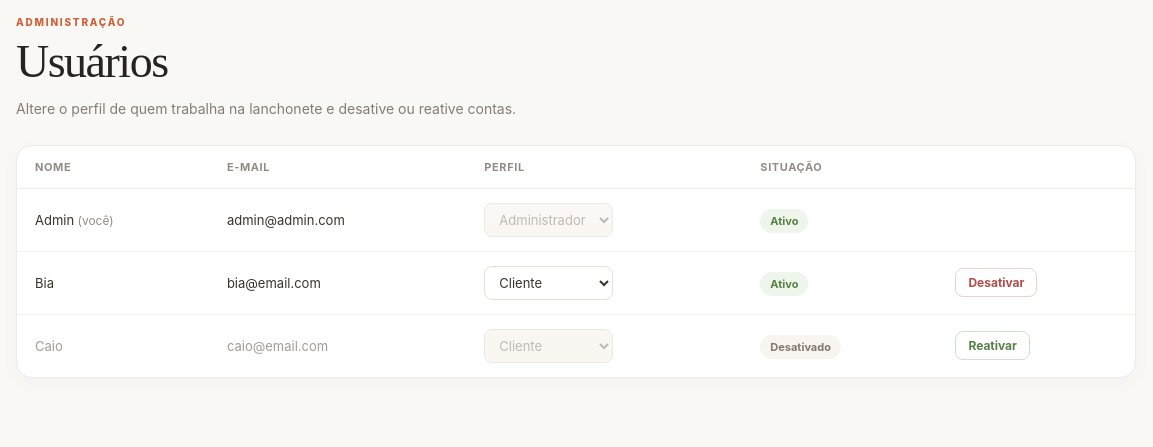
Test: AdminUsuarios › promover a funcionário pede confirmação, envia a nova role e atualiza a linha
Select "Funcionário" in the dropdown named "Perfil de Bia": (549, 283) x1=484 y1=266 x2=613 y2=300
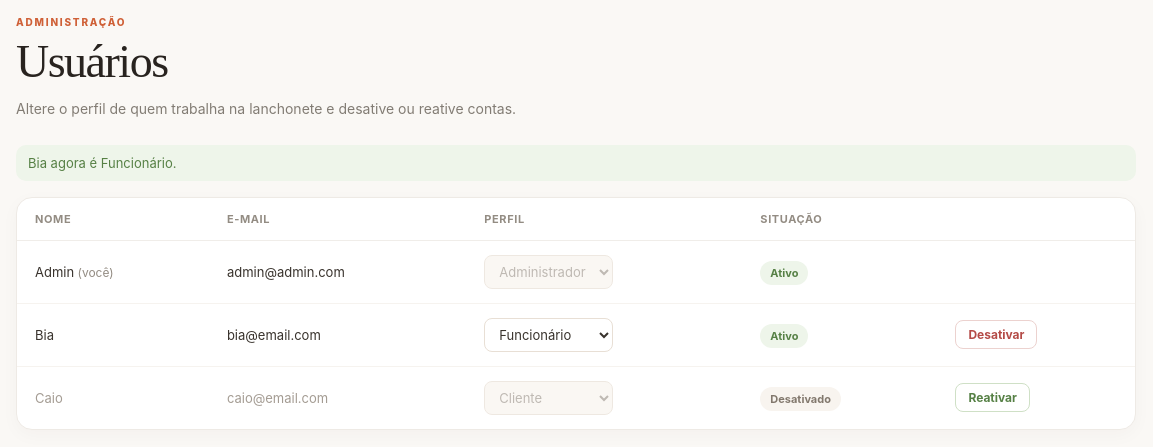
Check: the message reads "Bia agora é Funcionário.", box x1=28 y1=155 x2=176 y2=171
